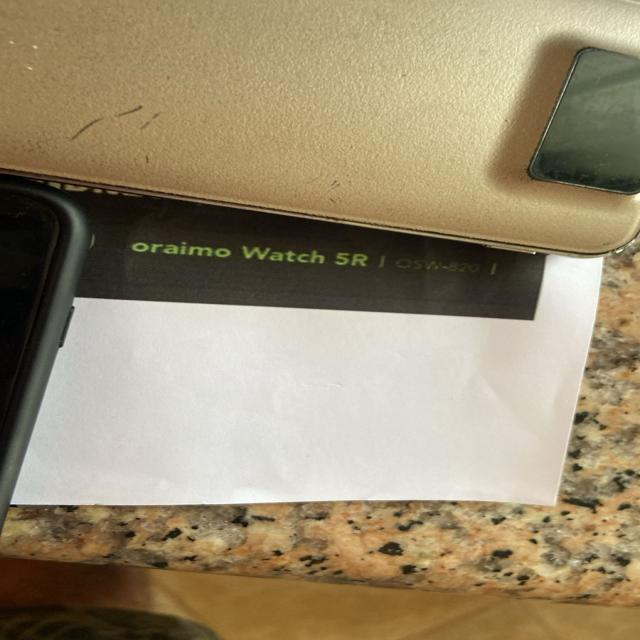Oraimo Watch 5R OSW-820: (127, 241, 512, 283)
